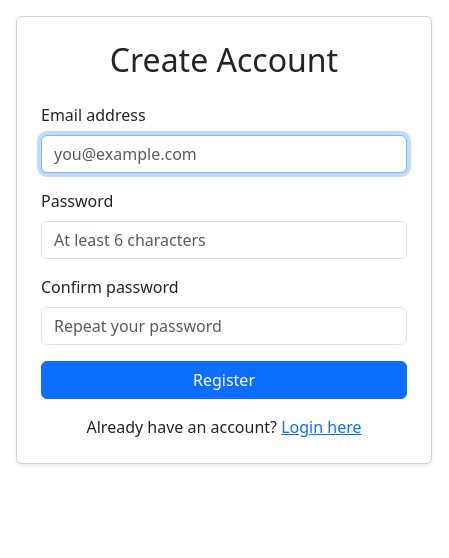
Scenario: RegisterPage › displays validation errors for empty fields on submit
Click the button "Register": [224, 380] box top-left (41, 361), bottom-right (407, 399)
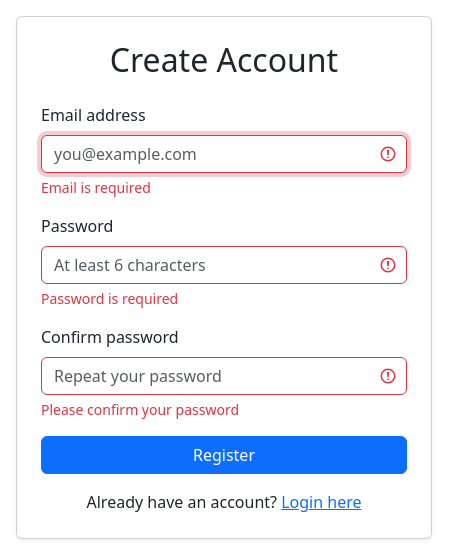
Expected: the text "Email is required" is shown, top-left (41, 178), bottom-right (151, 197)
Expected: the text "Password is required" is shown, top-left (41, 289), bottom-right (178, 308)
Expected: the text "Please confirm your password" is shown, top-left (41, 400), bottom-right (239, 419)
